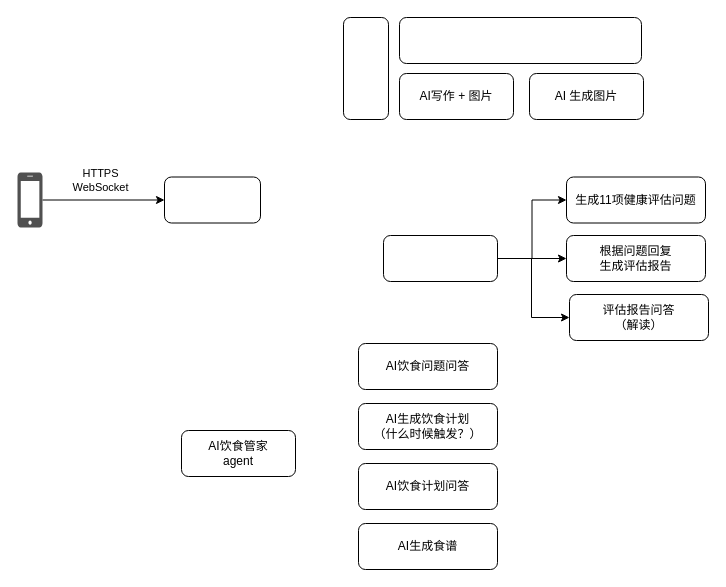
This 726x587 diagram has some shape labels left out. Each missing label, with the centre of its shape:
AI search Agent: the point at 520,40
AI评估管家 agent: the point at 440,258
API网关: the point at 212,199
文本 转语音 （TTS）: the point at 365,68
